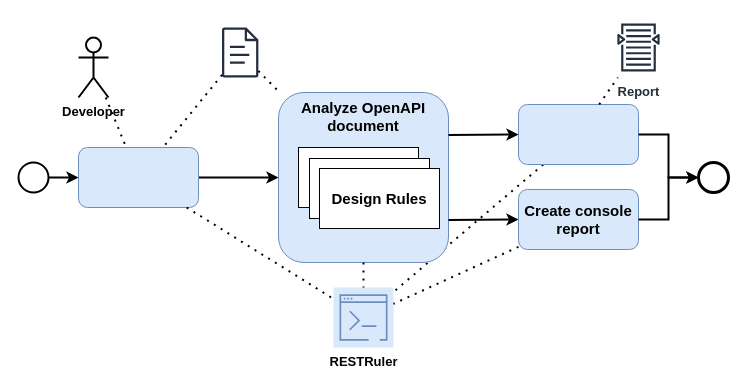
This 746x388 diagram has some shape labels left out. The centre of each missing label's shape, as x and y in pixels:
"Create Markdown report" belongs at pixel 578 134.
"Invoke CLI with configuration" belongs at pixel 138 177.
"OpenAPI" belongs at pixel 239 52.
